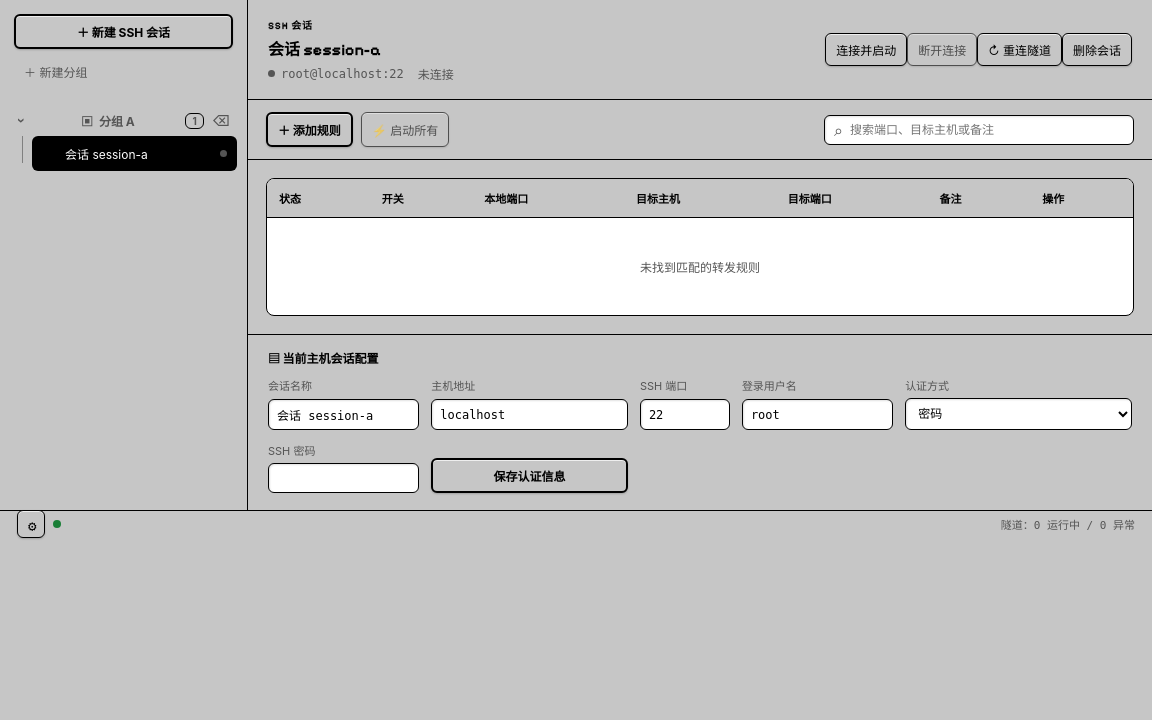
it: App › retains the draft and reports an authentication-specific error when config saving fails
Type "retry config" into the password field named "SSH 密码" at (344, 478), box [268,463,419,493]
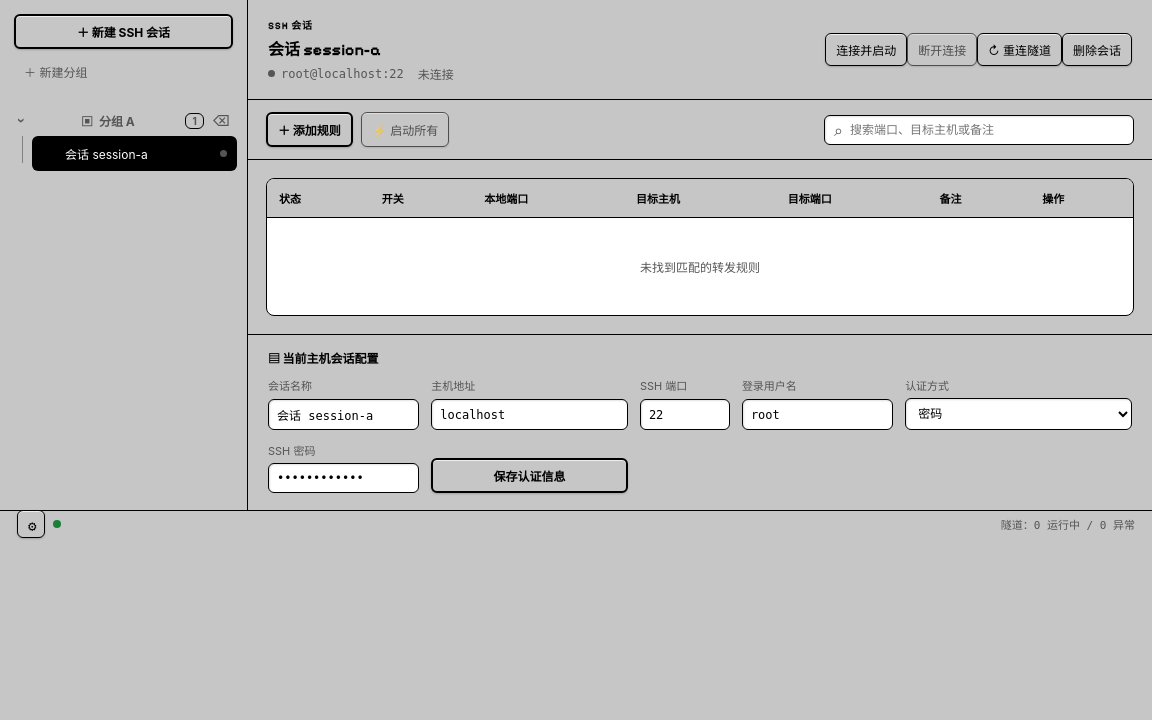
Click the button with test id "save-authentication" at (530, 476), box [431,458,628,493]
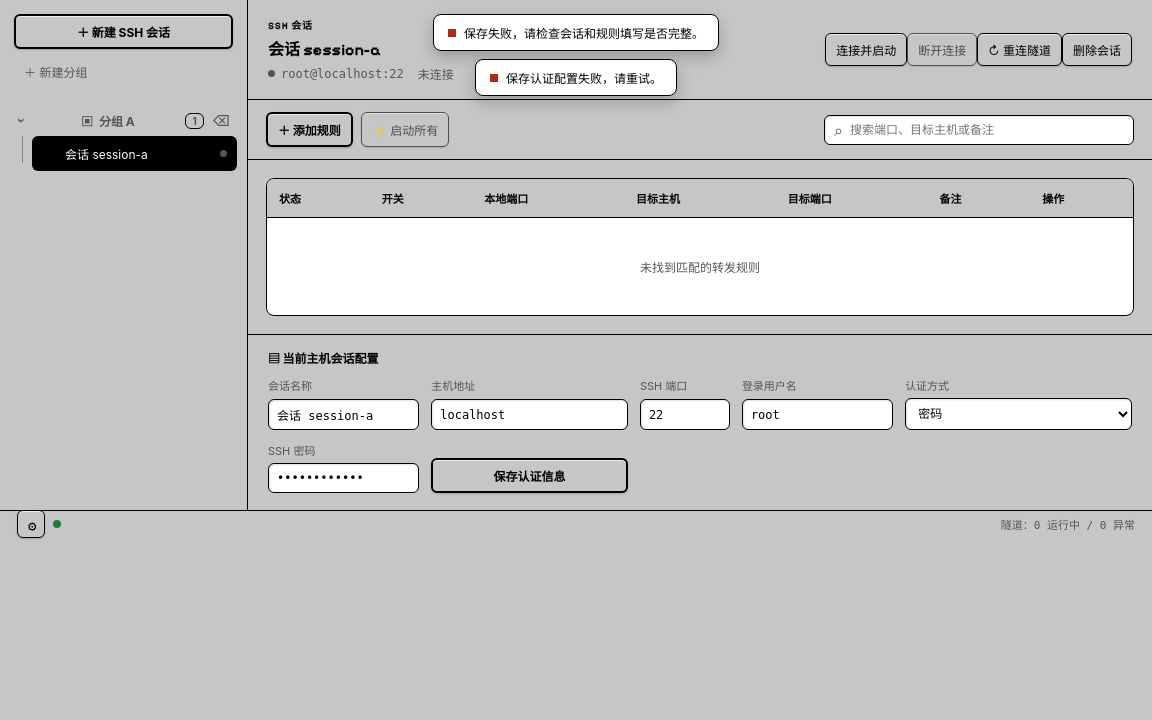
Check: the element with test id "toast-stack" shows "保存认证配置失败，请重试。", box [506,71,662,86]
